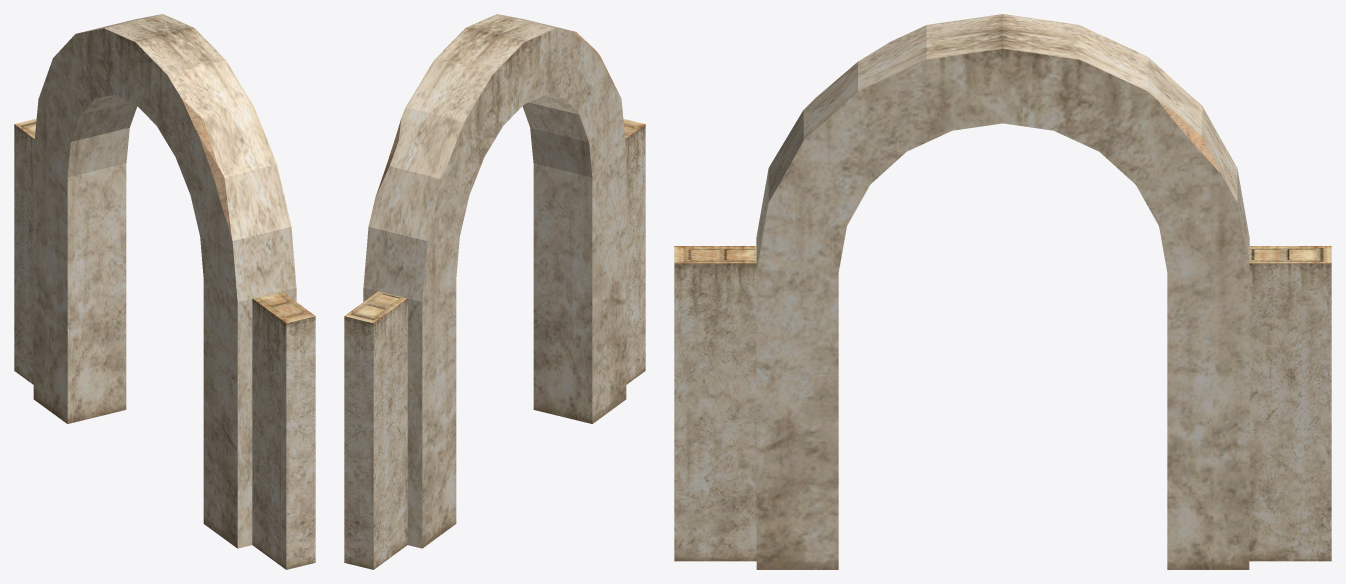
Rendered from thm_tato_imprv_archway_s01_l0.fbx.
3 renders of one model, left to right at view 1: azimuth 30°, elevation 25°; view 2: azimuth 150°, elevation 25°; view 3: azimuth 270°, elevation 25°, orthographic. The views are drawn at different scales.
Visible parts, largest first — view 1: mesh_node; view 2: mesh_node; view 3: mesh_node.
Boxes of the visible parts, left/top/right/bottom form: mesh_node: left=14, top=14, right=315, bottom=569; mesh_node: left=344, top=14, right=645, bottom=569; mesh_node: left=674, top=14, right=1331, bottom=569.
Size of the model in its own units: 1 by 7 by 8.
